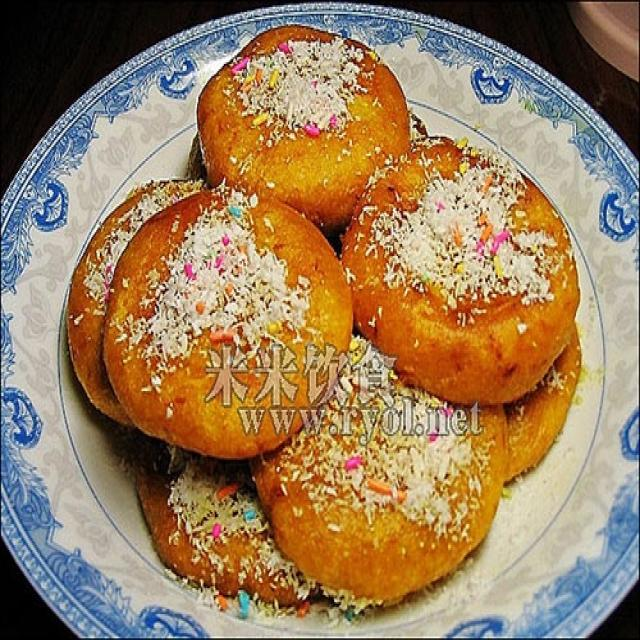炸货点心: (5, 5, 635, 626)
蛋糕甜品: (5, 5, 635, 626)
